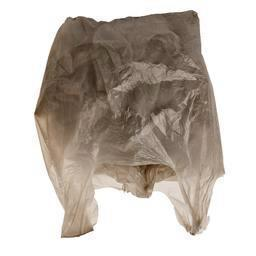plastic: (35, 11, 225, 237)
